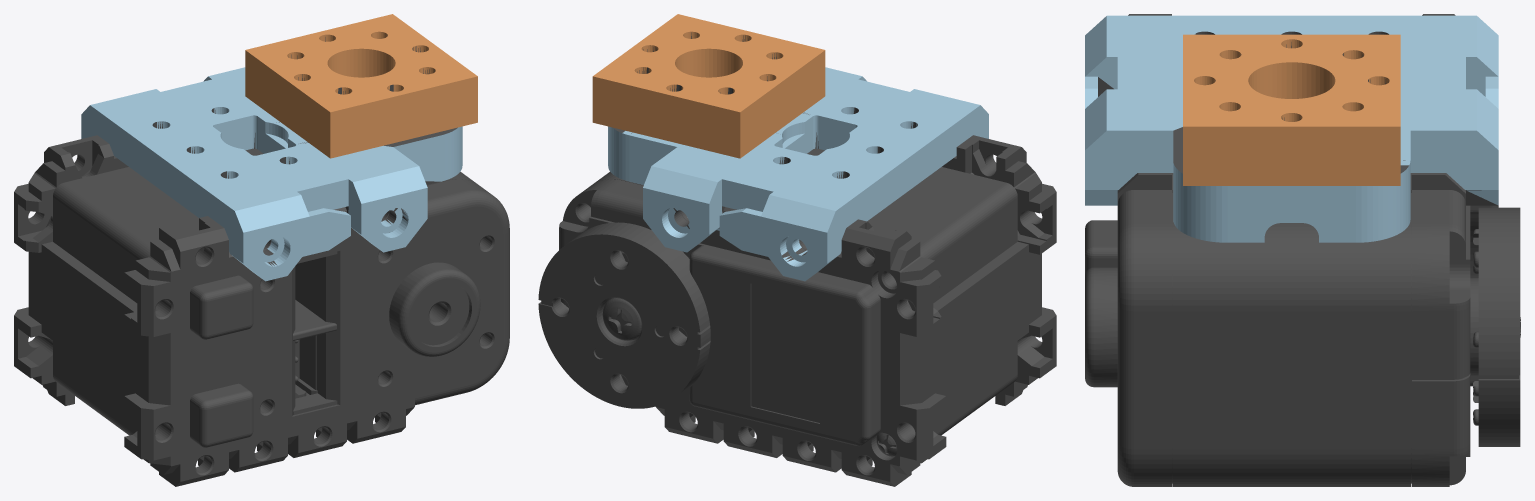
Rendered from front_left_link.dae.
The picture shows the model from 3 angles, left to right: view 1: azimuth 30°, elevation 25°; view 2: azimuth 150°, elevation 25°; view 3: azimuth 270°, elevation 25°; orthographic projection. The views are drawn at different scales.
Parts seen in each view (by area): view 1: tmp_export_front_left_link; view 2: tmp_export_front_left_link; view 3: tmp_export_front_left_link.
Boxes of the visible parts, bbox=[...] form: tmp_export_front_left_link: bbox=[14, 14, 509, 486]; tmp_export_front_left_link: bbox=[538, 14, 1056, 486]; tmp_export_front_left_link: bbox=[1085, 14, 1520, 486].
Bounding box in the file's own units: 0.05 × 0.04 × 0.041.
